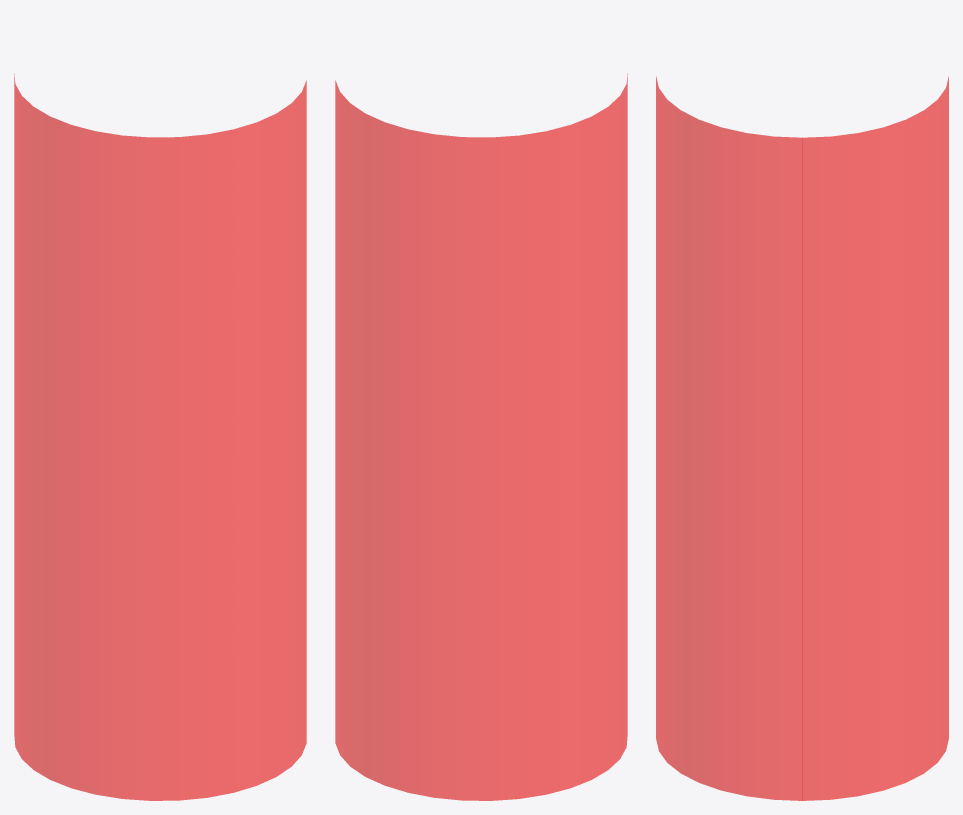
File: enchu.gltf
3 renders of one model, left to right at view 1: azimuth 30°, elevation 25°; view 2: azimuth 150°, elevation 25°; view 3: azimuth 270°, elevation 25°, orthographic.
Bounding box in the file's own units: 200 × 500 × 200.
